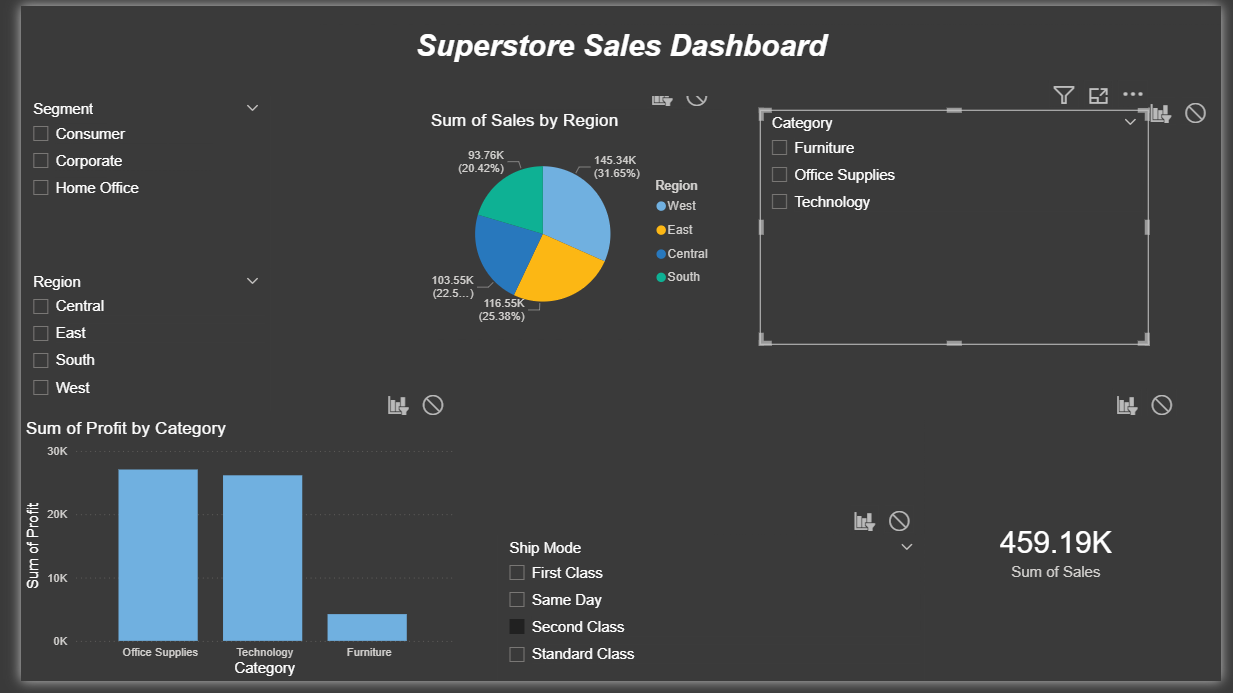

The page's visual inventory and layout, read from the dashboard file:
{"tool":"powerbi","page":{"name":"Page 1","canvas":[1280,720],"ordinal":0},"visuals":[{"type":"card","fields":{"Values":["Sum(Sample - Superstore.Sales)"]},"box":[964,440,280,280],"z":0},{"type":"clusteredColumnChart","fields":{"Category":["Sample - Superstore.Category"],"Y":["Sum(Sample - Superstore.Profit)"]},"box":[0,440,466,280],"z":1000},{"type":"pieChart","fields":{"Category":["Sample - Superstore.Region"],"Y":["Sum(Sample - Superstore.Sales)"]},"box":[430,88,316,244],"z":2000},{"type":"slicer","fields":{"Values":["Sample - Superstore.Region"]},"box":[0,280,266,152],"z":3000},{"type":"slicer","fields":{"Values":["Sample - Superstore.Category"]},"box":[798,88,414,250],"z":4000},{"type":"slicer","fields":{"Values":["Sample - Superstore.Segment"]},"box":[0,96,266,184],"z":5000},{"type":"slicer","fields":{"Values":["Sample - Superstore.Ship Mode"]},"box":[508,564,456,156],"z":6000},{"type":"textbox","box":[0,20,1280,76],"z":7000}]}

Visuals, with their boxes in screenshot pixels (x1, y1, x2, y2), scaled from the page's 1280x720 canvas onto the 1233x693 screenshot:
card - Sum(Sample - Superstore.Sales): 929/424/1198/692
clusteredColumnChart - Sample - Superstore.Category x Sum(Sample - Superstore.Profit): 0/424/449/692
pieChart - Sample - Superstore.Region x Sum(Sample - Superstore.Sales): 414/85/719/320
slicer - Sample - Superstore.Region: 0/270/256/416
slicer - Sample - Superstore.Category: 769/85/1167/325
slicer - Sample - Superstore.Segment: 0/92/256/270
slicer - Sample - Superstore.Ship Mode: 489/543/929/692
textbox: 0/19/1232/92
